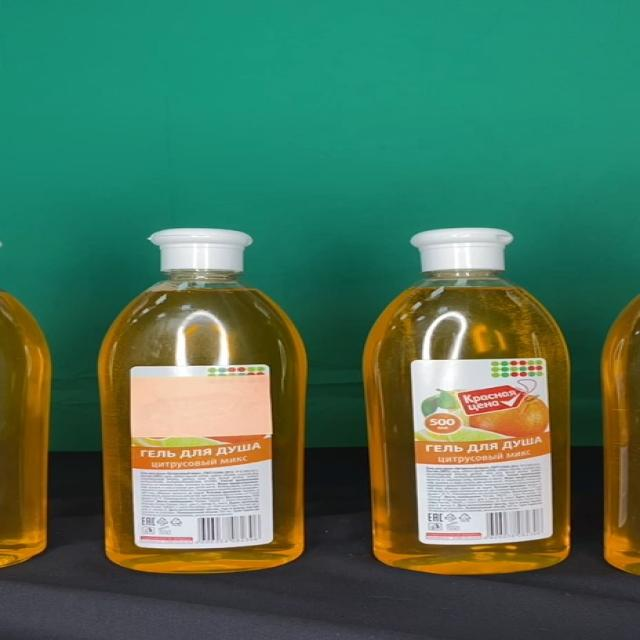Bottle: (361, 228, 571, 575), (101, 229, 307, 574)
Cap: (148, 229, 254, 272), (410, 228, 513, 270)
